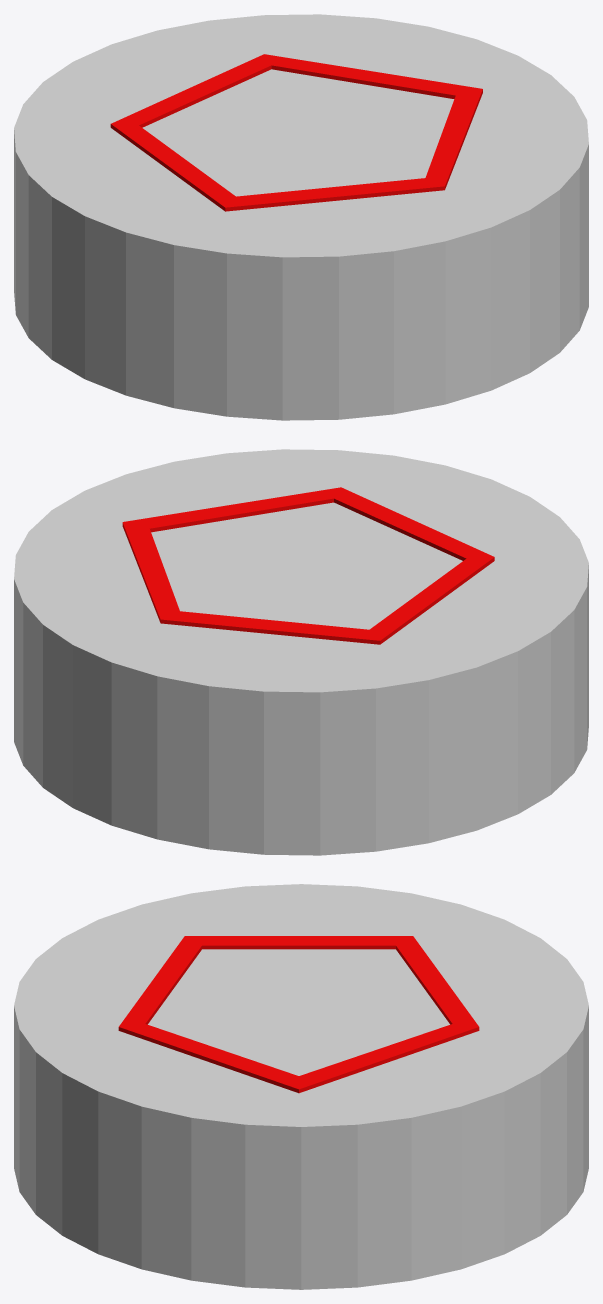
File: Button_penthagon_v3.fbx
The picture shows the model from 3 angles, top to bottom: view 1: azimuth 30°, elevation 25°; view 2: azimuth 150°, elevation 25°; view 3: azimuth 270°, elevation 25°; orthographic projection.
Parts seen in each view (by area): view 1: Text; view 2: Text; view 3: Text.
Part boxes in pixels (<box>): Text: <box>14,14,588,420</box>; Text: <box>14,449,588,855</box>; Text: <box>14,884,588,1289</box>.
Size of the model in its own units: 80 by 25.6 by 80.
